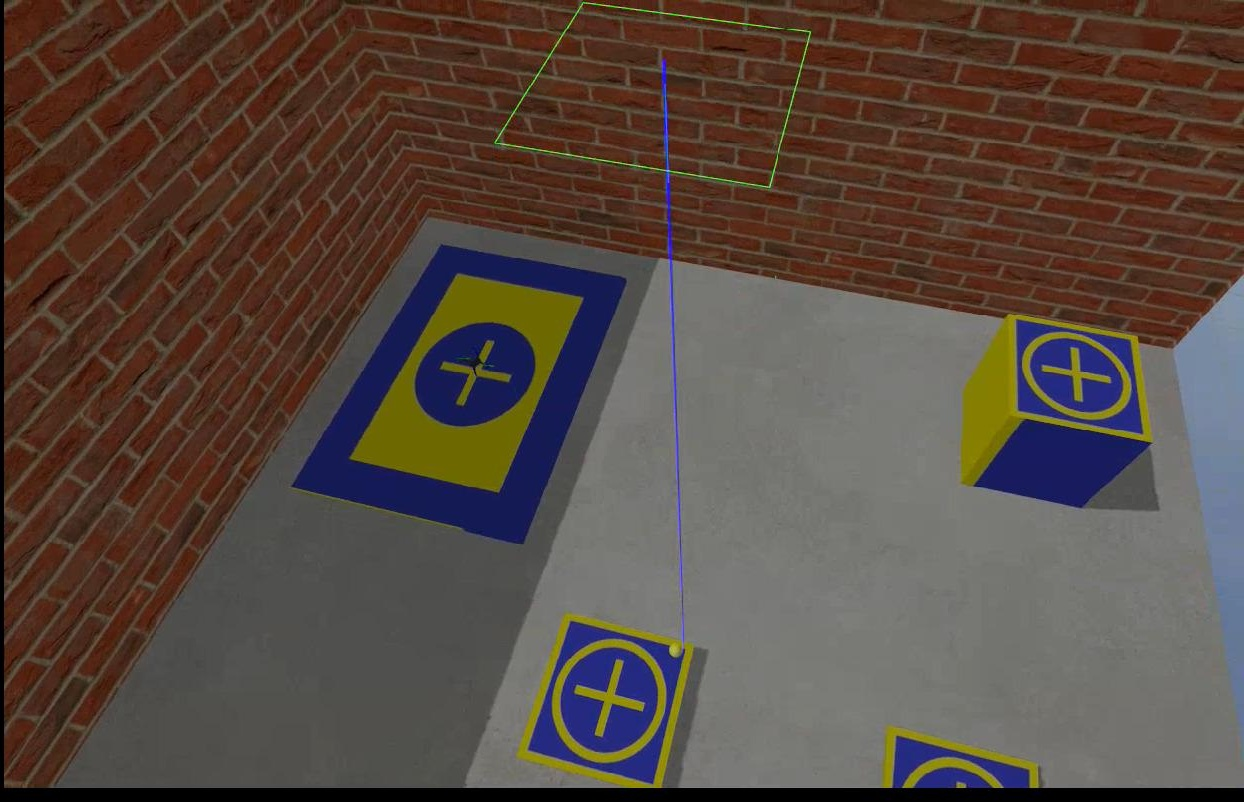large_base: (287, 243, 627, 549)
small_base: (513, 613, 696, 792), (1004, 315, 1153, 450), (881, 724, 1039, 793)
